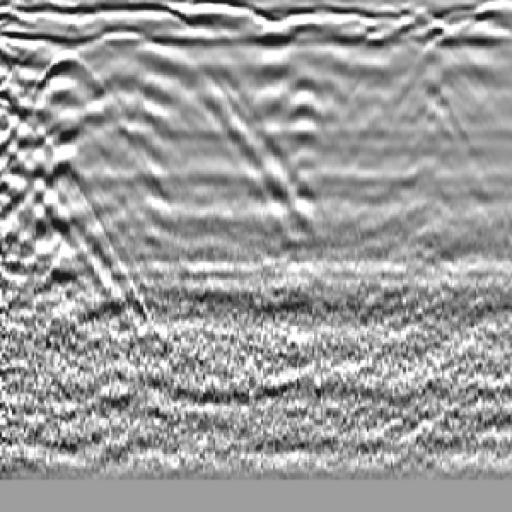non-metallic: (233, 44, 367, 257), (1, 37, 145, 235)
